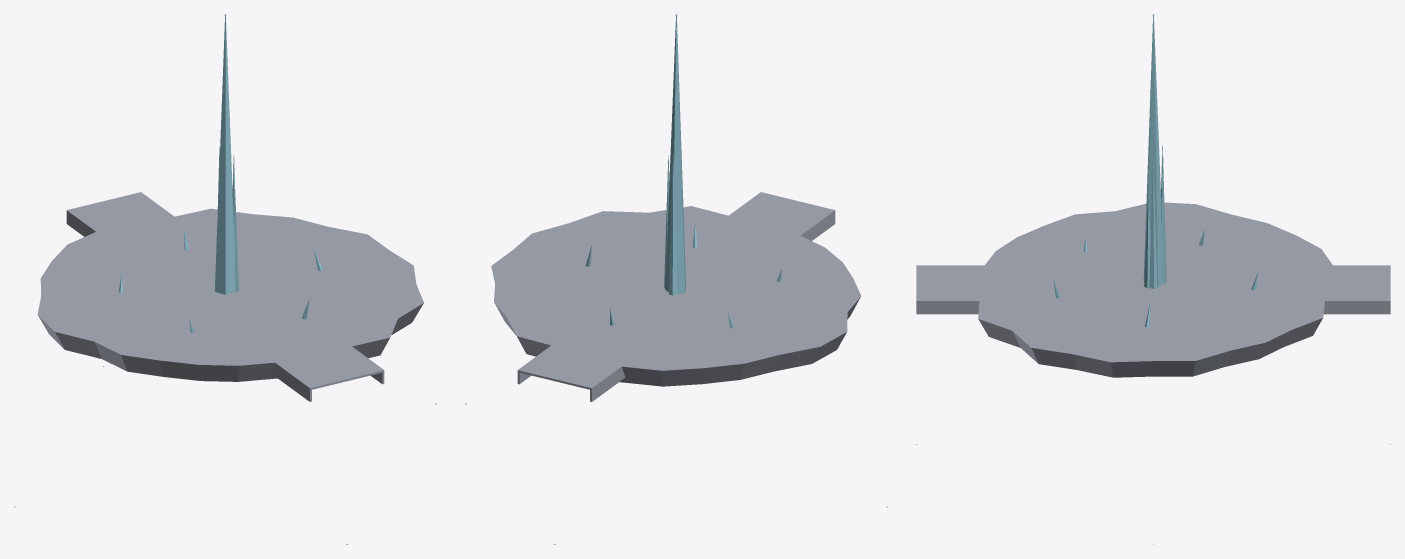
File: chunk_es_crystal_grove.fbx
3 renders of one model, left to right at view 1: azimuth 30°, elevation 25°; view 2: azimuth 150°, elevation 25°; view 3: azimuth 270°, elevation 25°, orthographic. The views are drawn at different scales.
Parts seen in each view (by area): view 1: ES_CRYSTAL_GROVE; view 2: ES_CRYSTAL_GROVE; view 3: ES_CRYSTAL_GROVE.
Boxes of the visible parts, x1,y1,x2,y2 form: ES_CRYSTAL_GROVE: [14, 14, 436, 544]; ES_CRYSTAL_GROVE: [465, 14, 887, 544]; ES_CRYSTAL_GROVE: [916, 14, 1390, 544].
Size of the model in its own units: 256 by 256 by 256.
